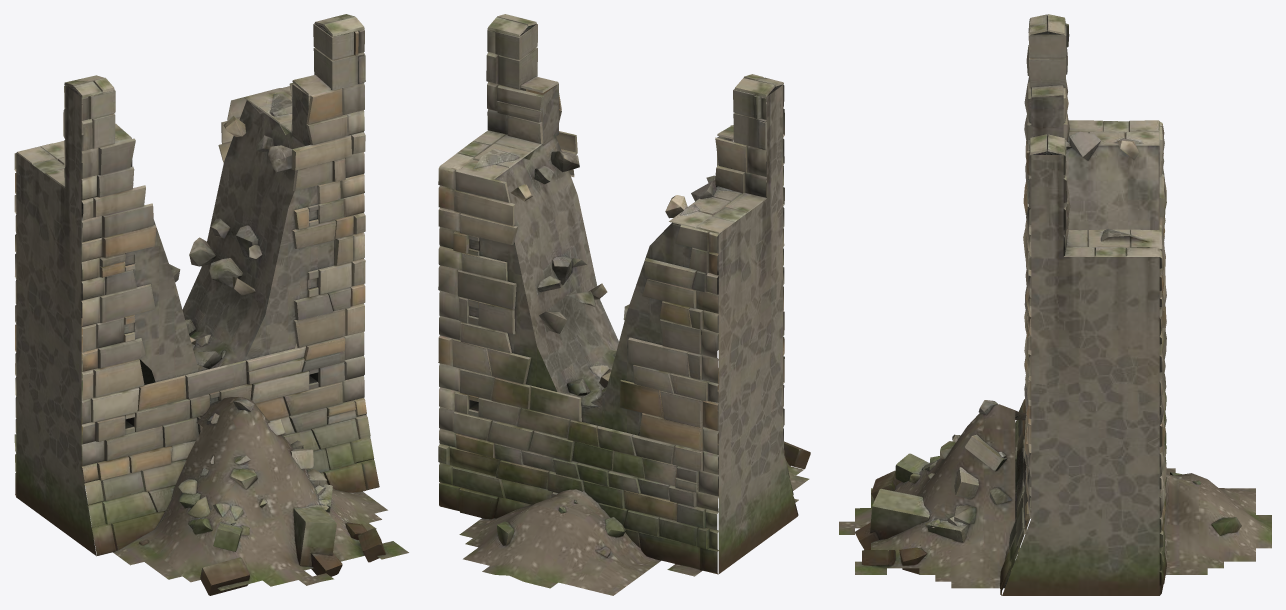
Rendered from wall_stone_breach.glb.
3 views of the same model, side by side, from view 1: azimuth 30°, elevation 25°; view 2: azimuth 150°, elevation 25°; view 3: azimuth 270°, elevation 25° (orthographic).
Parts seen in each view (by area): view 1: wall_stone_breach_LOD0; view 2: wall_stone_breach_LOD0; view 3: wall_stone_breach_LOD0.
Boxes of the visible parts, x1,y1,x2,y2 form: wall_stone_breach_LOD0: (14, 14, 408, 595); wall_stone_breach_LOD0: (438, 14, 810, 595); wall_stone_breach_LOD0: (839, 14, 1271, 595).
Size of what is drawn, in the model's own units: 6 by 9.48 by 8.1.
Materials: 1 (1 with a texture image).
